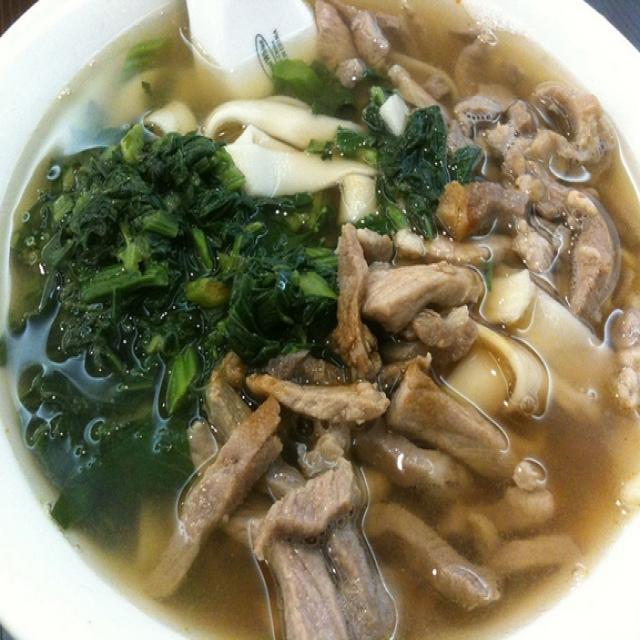牛肉菜式: (20, 27, 621, 604)
